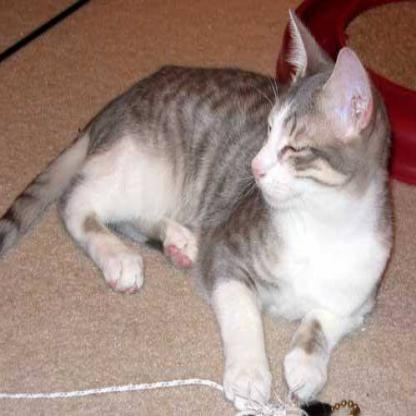cat: (75, 25, 390, 344)
